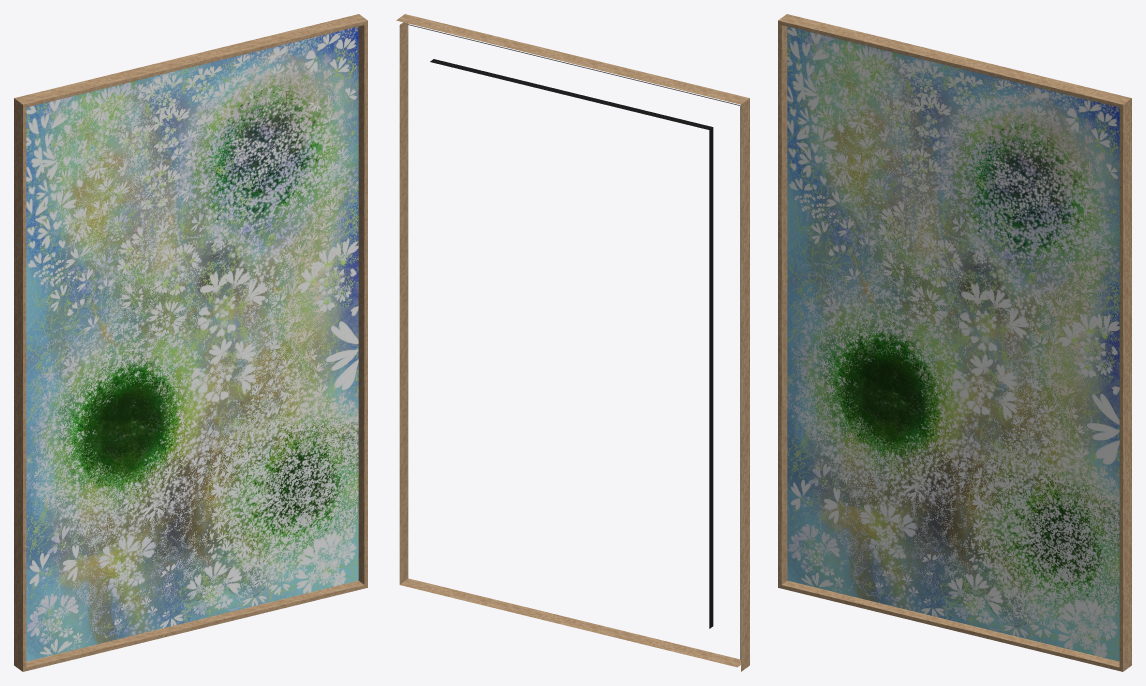
The model's file is os032_grand_caisse-chene.glb.
3 renders of one model, left to right at view 1: azimuth 30°, elevation 25°; view 2: azimuth 150°, elevation 25°; view 3: azimuth 330°, elevation 25°, orthographic.
Parts seen in each view (by area): view 1: os032_grand_caisse-chene; view 2: os032_grand_caisse-chene; view 3: os032_grand_caisse-chene.
Part boxes in pixels (x1,y1,x2,y2): os032_grand_caisse-chene: (14, 14, 367, 671); os032_grand_caisse-chene: (396, 14, 749, 671); os032_grand_caisse-chene: (778, 14, 1131, 671).
Bounding box in the file's own units: 0.7817 × 1.23 × 0.035.
Materials: 4 (2 with a texture image).
